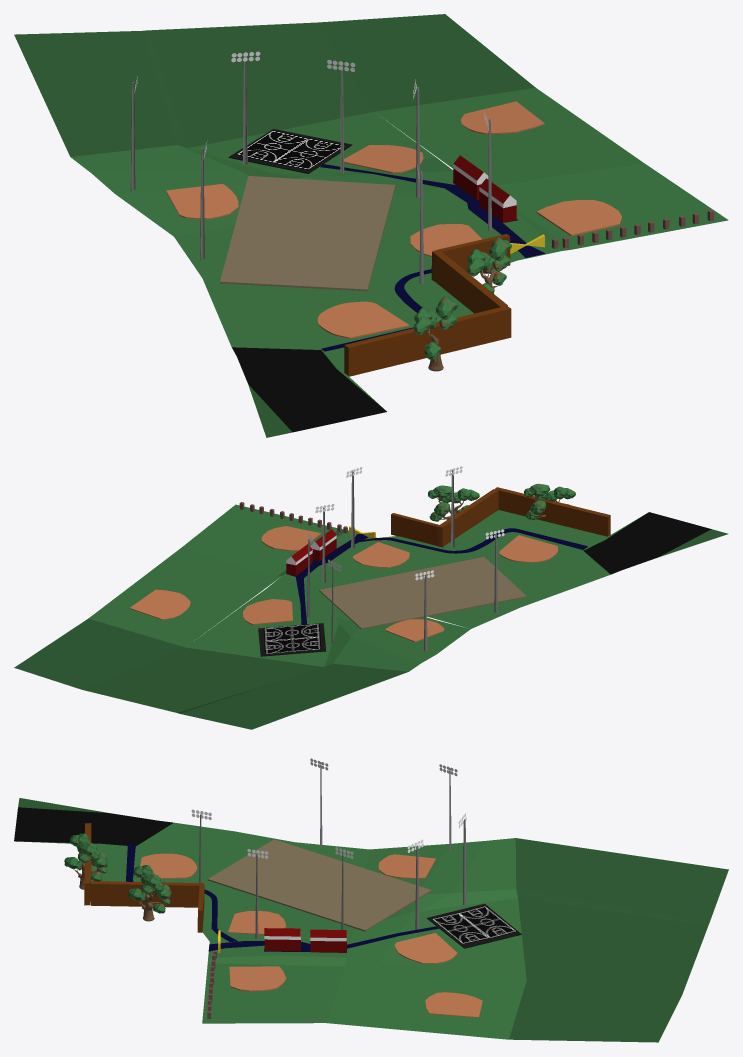
Rendered from intcapefield.glb.
The picture shows the model from 3 angles, top to bottom: view 1: azimuth 30°, elevation 25°; view 2: azimuth 150°, elevation 25°; view 3: azimuth 270°, elevation 25°; orthographic projection. The views are drawn at different scales.
Visible parts, largest first — view 1: capefieldall.006, Cylinder.016, tree_Cube.002, tree_Cube.001; view 2: capefieldall.006, Cylinder.016, tree_Cube.001, tree_Cube.002; view 3: capefieldall.006, Cylinder.016, tree_Cube.001, tree_Cube.002.
Part boxes in pixels (<box>): capefieldall.006: <box>14,14,728,437</box>; Cylinder.016: <box>130,51,491,283</box>; tree_Cube.002: <box>413,296,458,371</box>; tree_Cube.001: <box>467,237,511,293</box>; capefieldall.006: <box>14,487,728,729</box>; Cylinder.016: <box>307,466,504,651</box>; tree_Cube.001: <box>428,485,479,521</box>; tree_Cube.002: <box>524,483,575,519</box>; capefieldall.006: <box>14,798,728,1042</box>; Cylinder.016: <box>191,758,466,938</box>; tree_Cube.001: <box>128,865,171,921</box>; tree_Cube.002: <box>64,833,107,889</box>.
Bounding box in the file's own units: 0.3737 × 0.0863 × 0.508.
15 materials, 1 textured.
